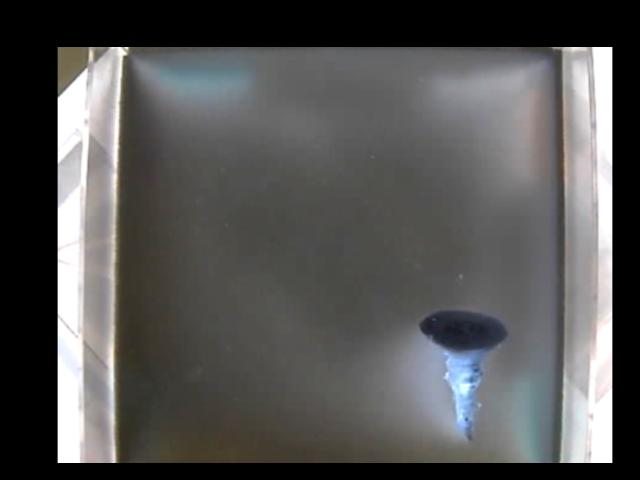Mooli: (419, 312, 510, 444)
